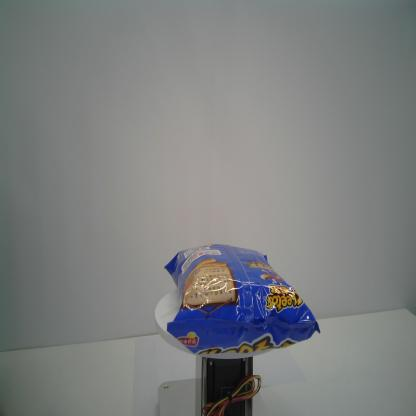Puffed Food: (163, 243, 322, 358)
